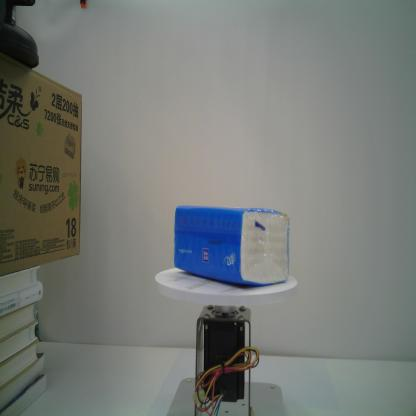Tissue: (174, 204, 289, 286)
